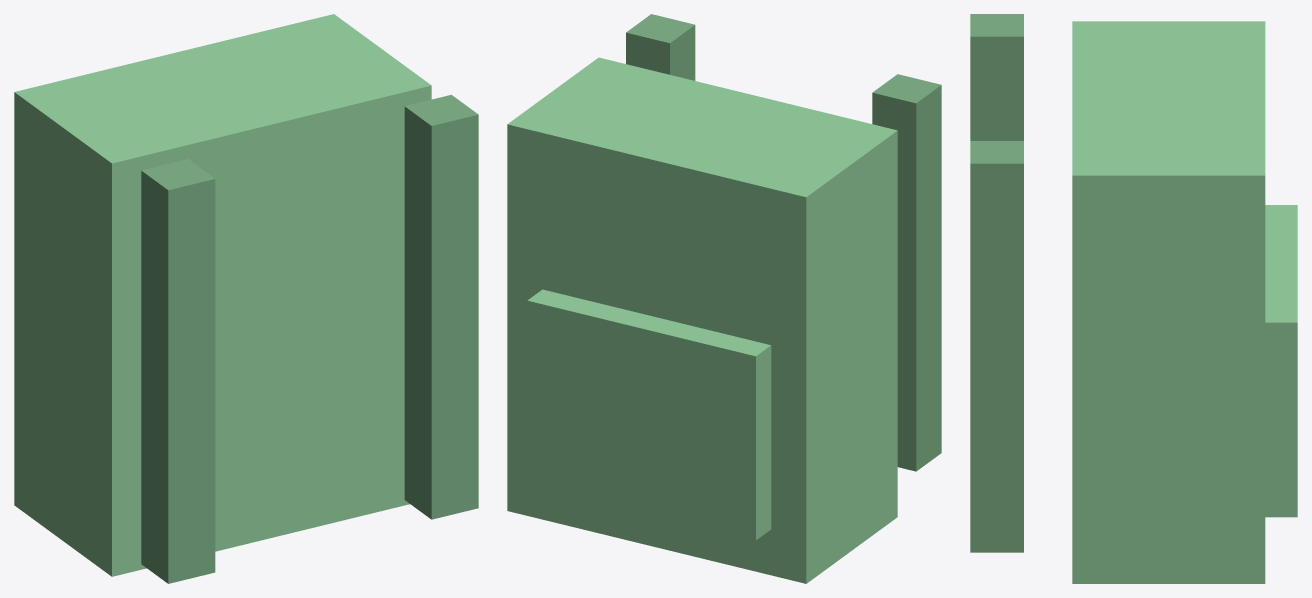
The model's file is dino-backpack.glb.
The picture shows the model from 3 angles, left to right: view 1: azimuth 30°, elevation 25°; view 2: azimuth 150°, elevation 25°; view 3: azimuth 270°, elevation 25°; orthographic projection. The views are drawn at different scales.
Visible parts, largest first — view 1: BagBody, LeftStrap, RightStrap; view 2: BagBody, FrontPocket, RightStrap, LeftStrap; view 3: BagBody, LeftStrap, FrontPocket, RightStrap.
Part boxes in pixels (x1,y1,x2,y2): BagBody: (14, 14, 431, 576); LeftStrap: (404, 94, 478, 519); RightStrap: (141, 159, 215, 583); BagBody: (507, 57, 897, 583); FrontPocket: (527, 289, 771, 540); RightStrap: (872, 74, 941, 471); LeftStrap: (626, 14, 695, 80); BagBody: (1072, 21, 1265, 583); LeftStrap: (970, 141, 1023, 552); FrontPocket: (1265, 205, 1297, 517); RightStrap: (970, 14, 1023, 140).
Bounding box in the file's own units: 0.34 × 0.43 × 0.305.
